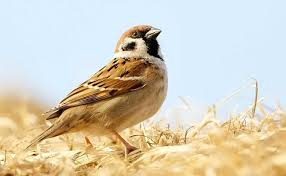hsparrow: (21, 20, 170, 163)
